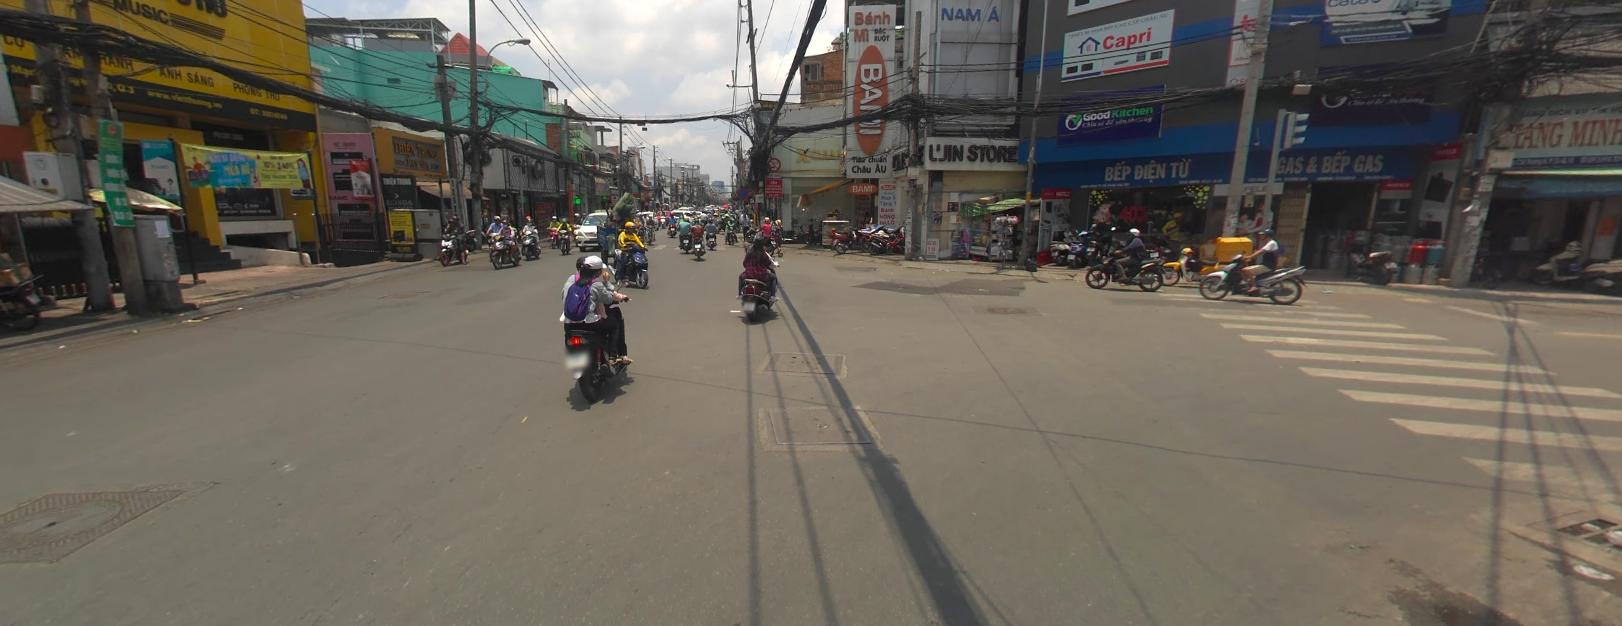Cam con lai: (768, 157, 780, 170)
Cam dung va do: (737, 186, 748, 197)
